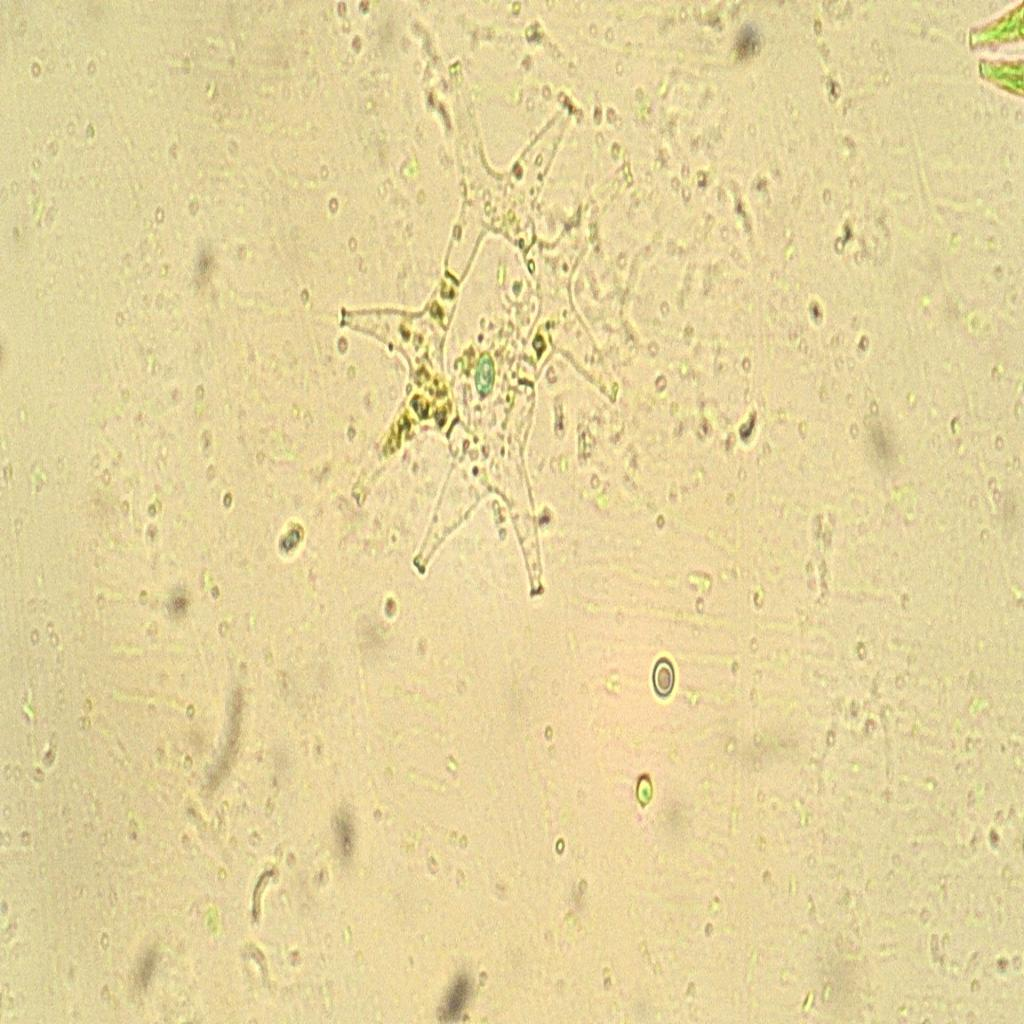Pediastrum_1F0: (329, 46, 627, 624)
